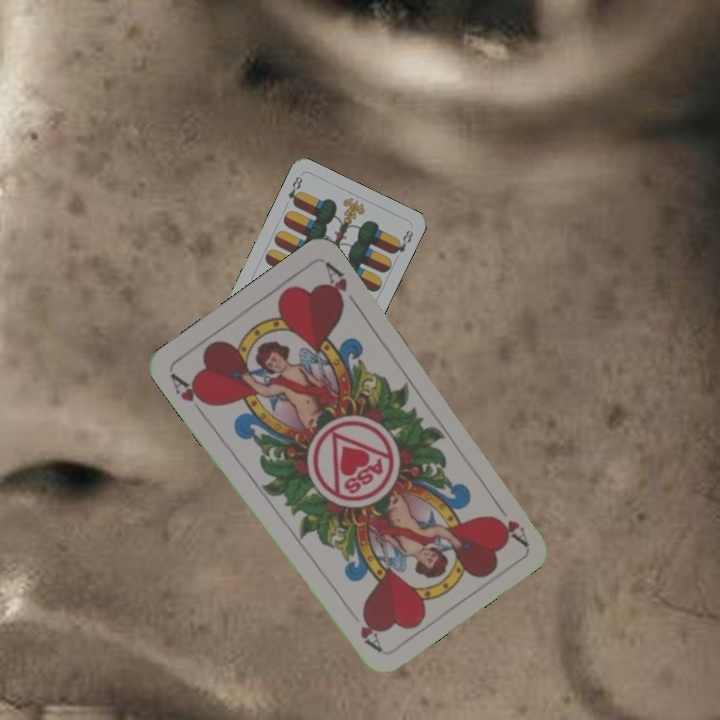E8: (284, 172, 305, 209)
HA: (489, 496, 531, 548), (166, 369, 214, 410)
